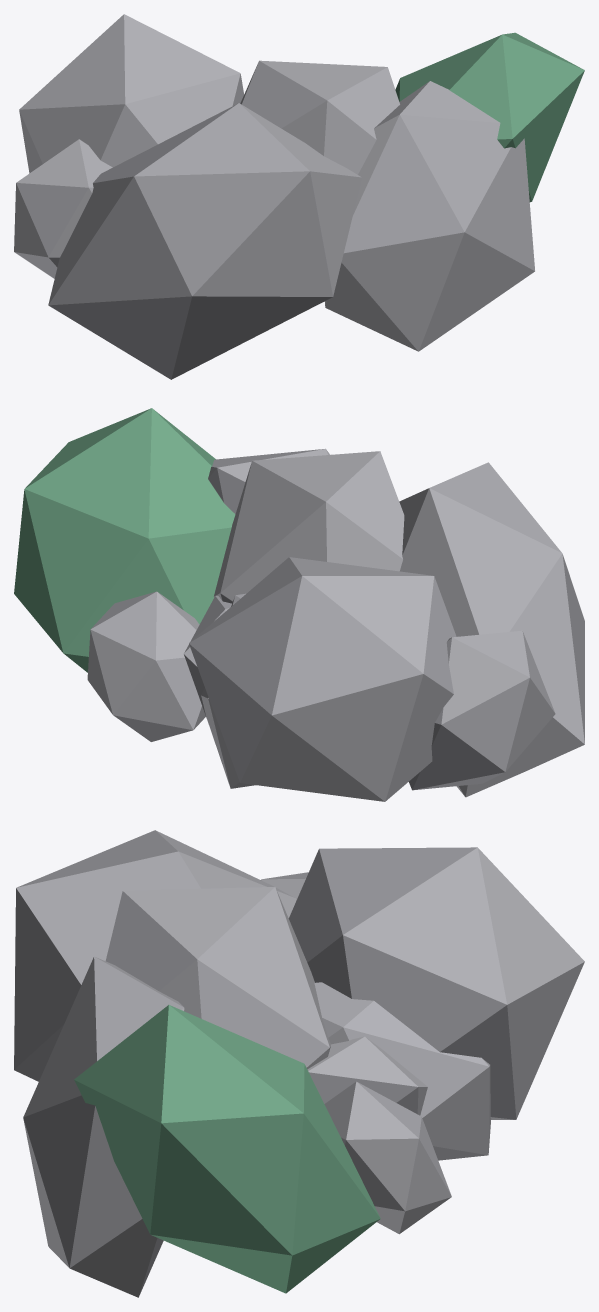
Rendered from Prop_WaterfallRocks.fbx.
3 views of the same model, one above another, from view 1: azimuth 30°, elevation 25°; view 2: azimuth 150°, elevation 25°; view 3: azimuth 270°, elevation 25° (orthographic). The views are drawn at different scales.
Parts seen in each view (by area): view 1: WaterfallRocks; view 2: WaterfallRocks; view 3: WaterfallRocks.
Part boxes in pixels (x1=…): WaterfallRocks: x1=14, y1=14, x2=584, y2=379; WaterfallRocks: x1=14, y1=408, x2=584, y2=801; WaterfallRocks: x1=14, y1=830, x2=584, y2=1297.
Bounding box in the file's own units: 471 × 230 × 356.
